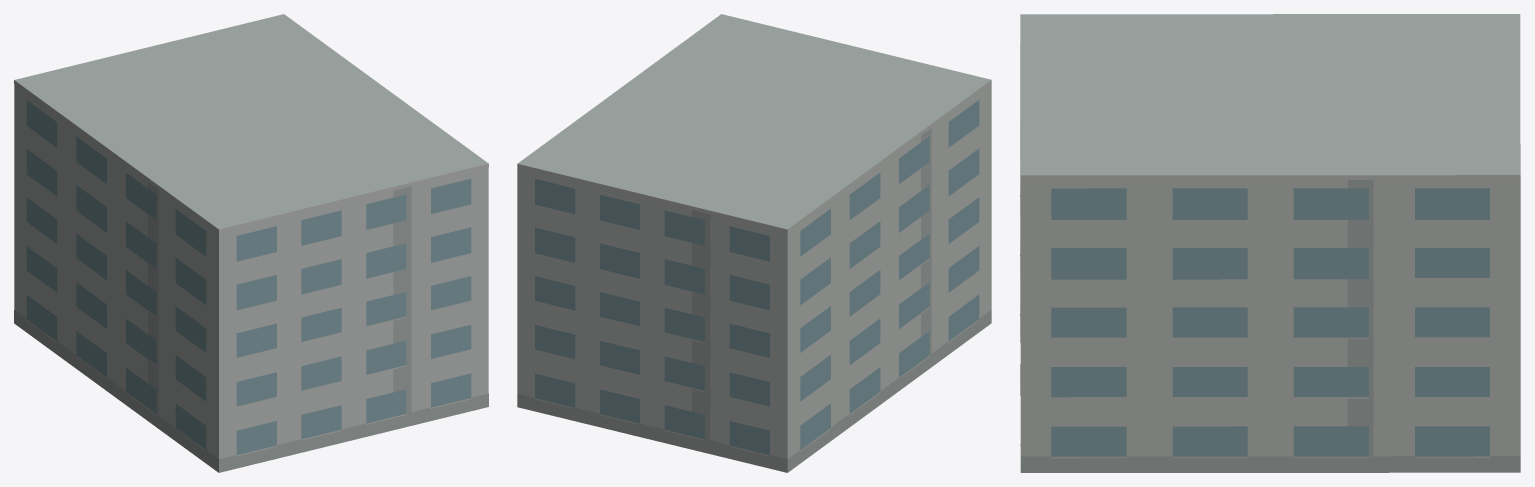
Rendered from survey-upis-32685236.glb.
3 views of the same model, side by side, from view 1: azimuth 30°, elevation 25°; view 2: azimuth 150°, elevation 25°; view 3: azimuth 270°, elevation 25° (orthographic). The views are drawn at different scales.
Visible parts, largest first — view 1: survey-upis-32685236.tmp; view 2: survey-upis-32685236.tmp; view 3: survey-upis-32685236.tmp.
Boxes of the visible parts, x1,y1,x2,y2 form: survey-upis-32685236.tmp: [14, 14, 488, 472]; survey-upis-32685236.tmp: [517, 14, 991, 472]; survey-upis-32685236.tmp: [1020, 14, 1520, 472].
Bounding box in the file's own units: 17.75 × 15.25 × 23.26.
